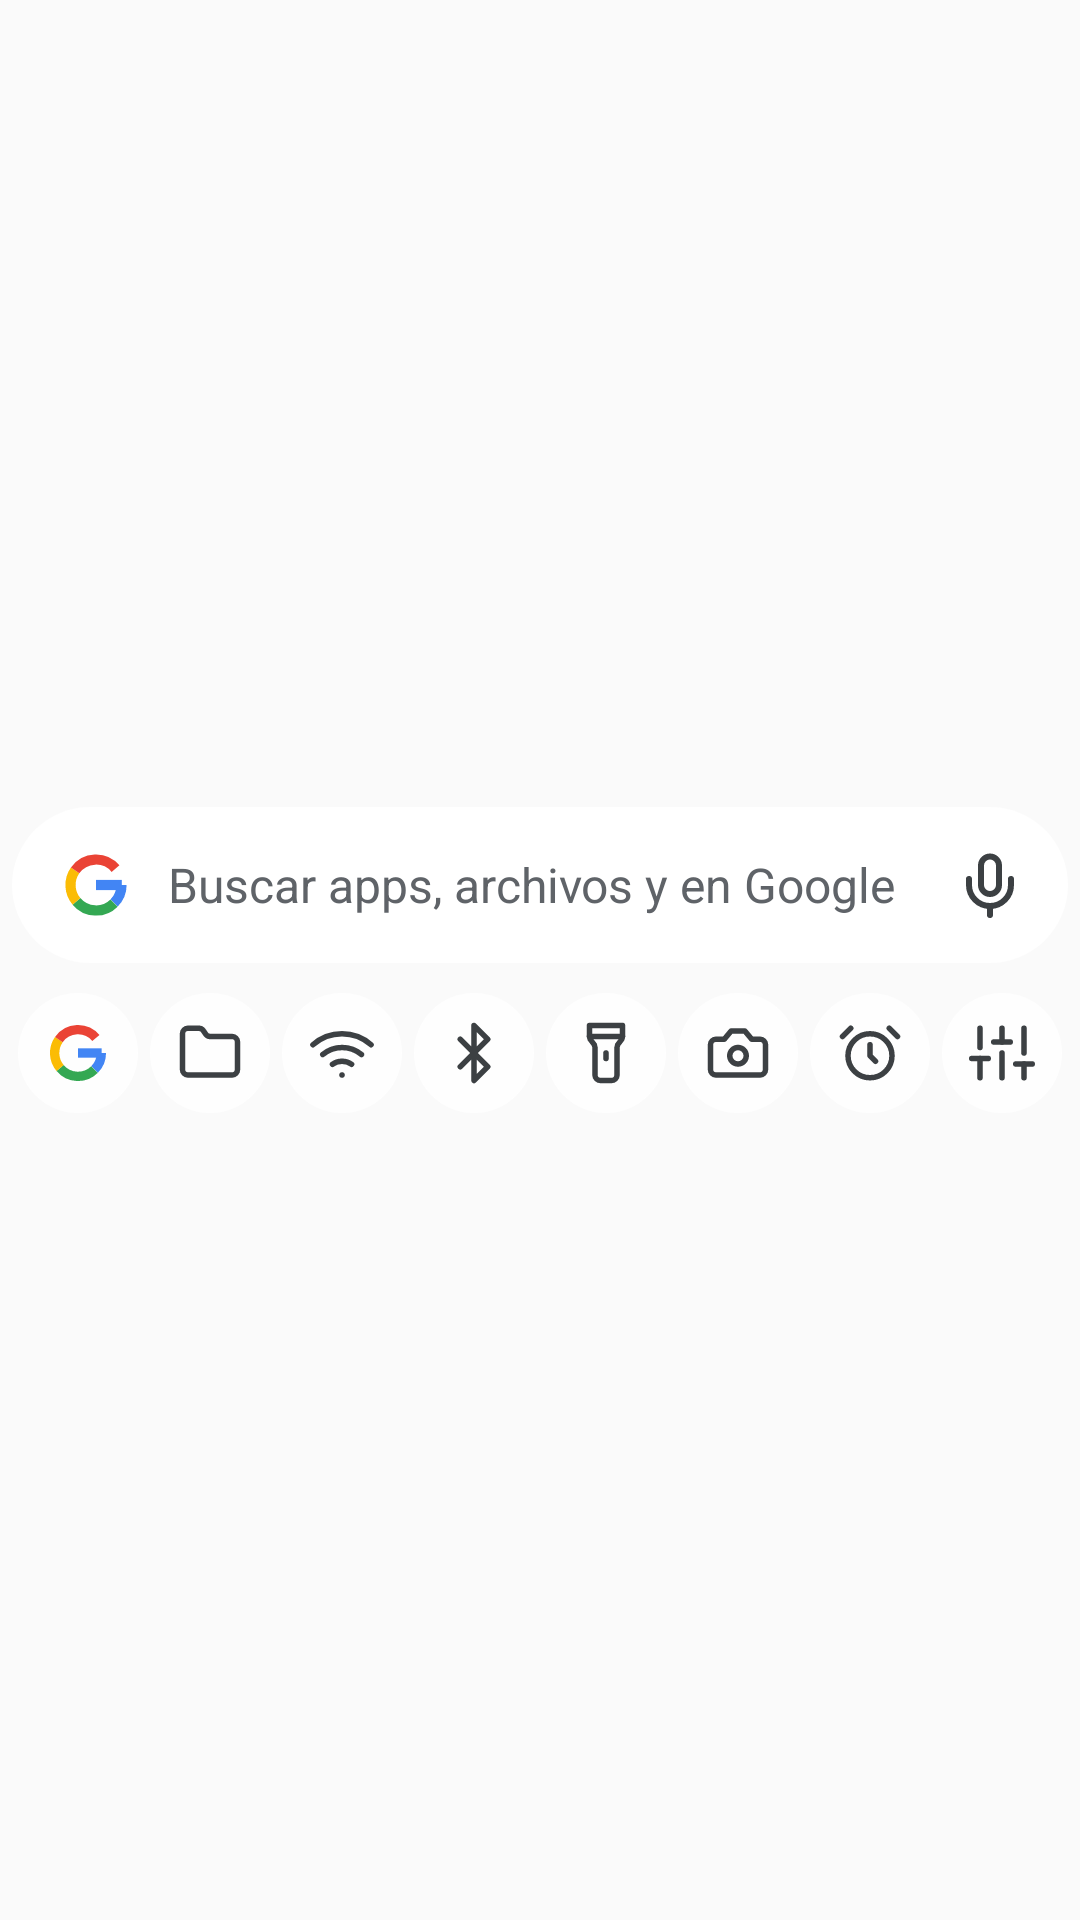

Named icons in this screenshot (1080px x 1920px) and their centers, point (x, y):
Ajustes: point (1002, 1053)
Alarmas: point (870, 1053)
Buscar por voz: point (990, 885)
Cámara: point (738, 1053)
Linterna: point (606, 1053)
Wi‑Fi: point (342, 1054)
